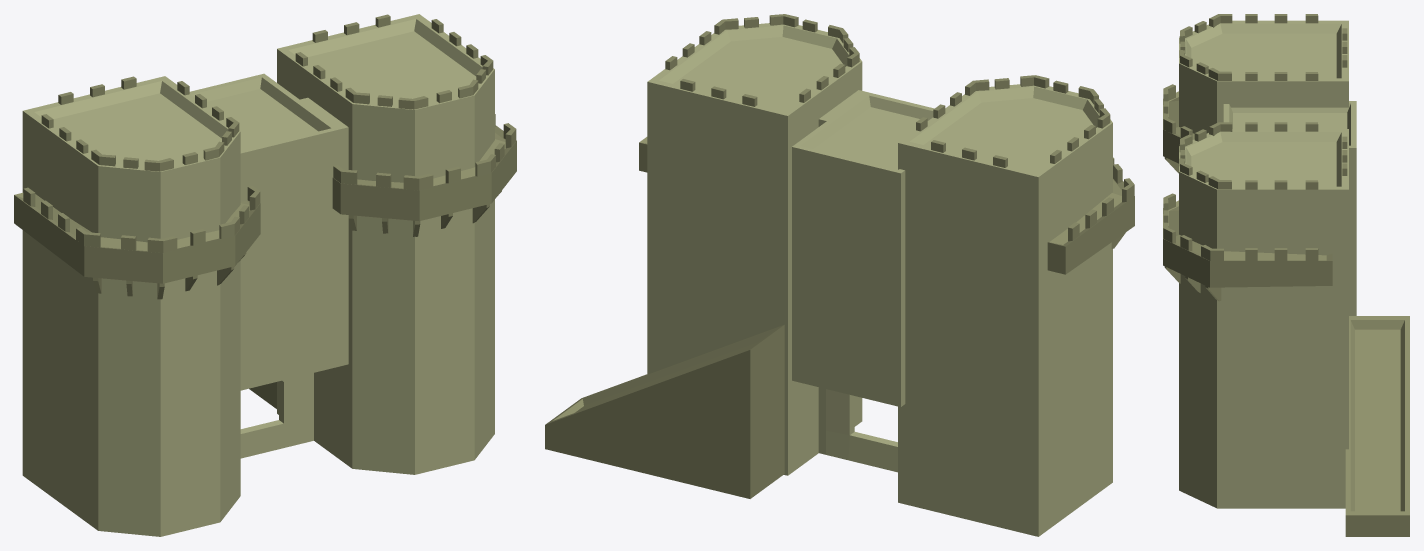
The model's file is TorresDeSerranos.fbx.
3 renders of one model, left to right at view 1: azimuth 30°, elevation 25°; view 2: azimuth 150°, elevation 25°; view 3: azimuth 270°, elevation 25°, orthographic. The views are drawn at different scales.
Parts seen in each view (by area): view 1: Cube.005, Cube.002, Cube.003, Plane.005, Cube.001; view 2: Cube.005, Cube.002, Cube.003, Cube.004, Cube.001, Plane.005; view 3: Cube.002, Cube.005, Cube.004, Plane.005, Cube.003, Cube.042.
Part boxes in pixels (x1,y1,x2,y2): Cube.005: [22, 76, 240, 536]; Cube.002: [277, 14, 494, 474]; Cube.003: [189, 73, 348, 390]; Plane.005: [14, 125, 516, 283]; Cube.001: [240, 373, 313, 458]; Cube.005: [898, 84, 1112, 536]; Cube.002: [647, 23, 862, 475]; Cube.003: [792, 90, 934, 407]; Cube.004: [545, 325, 784, 498]; Cube.001: [818, 387, 897, 472]; Plane.005: [639, 137, 1134, 274]; Cube.002: [1179, 129, 1348, 508]; Cube.005: [1179, 20, 1348, 133]; Cube.004: [1345, 316, 1409, 536]; Plane.005: [1163, 91, 1332, 287]; Cube.003: [1223, 101, 1356, 315]; Cube.042: [1201, 245, 1223, 260].
Bounding box in the file's own units: 3253 × 2399 × 1646.
